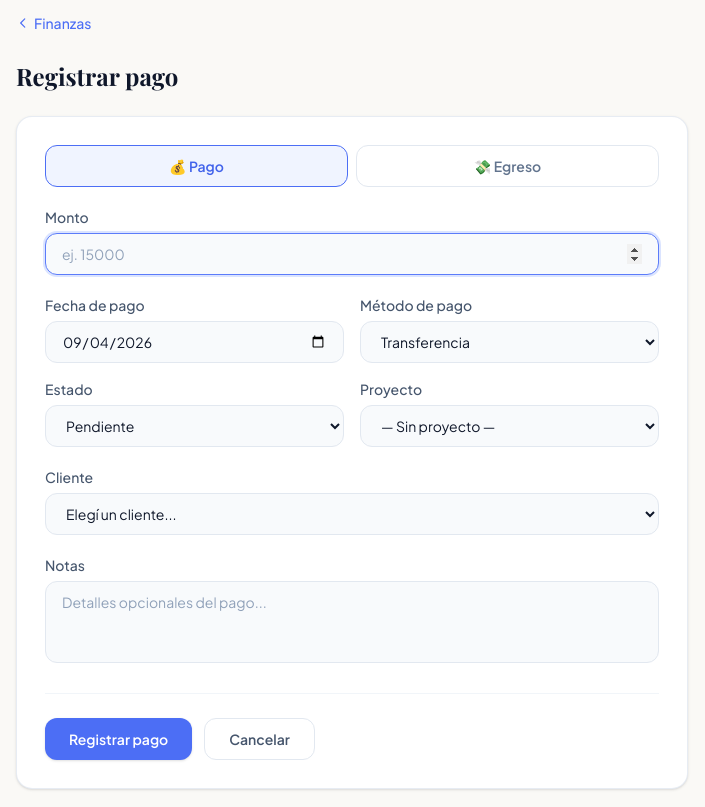
Test: FinanceForm — regla de dominio Egreso => Cobrado › al volver de Egreso a Pago rehabilita el selector con un estado consistente
Click the button "💸 Egreso".
click(508, 166)  # box [356, 145, 659, 187]
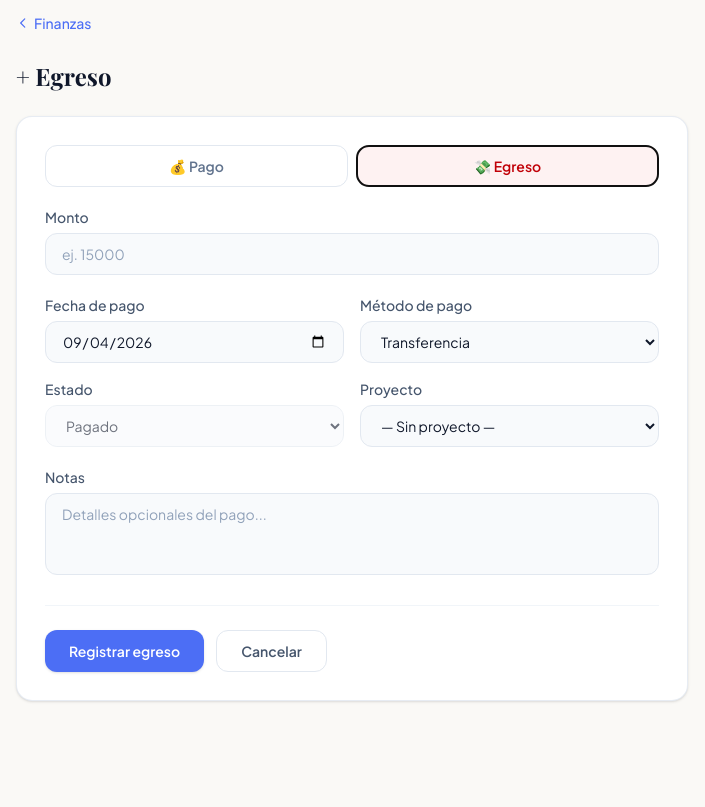
Click the button "💰 Pago".
click(196, 166)  # box [45, 145, 348, 187]
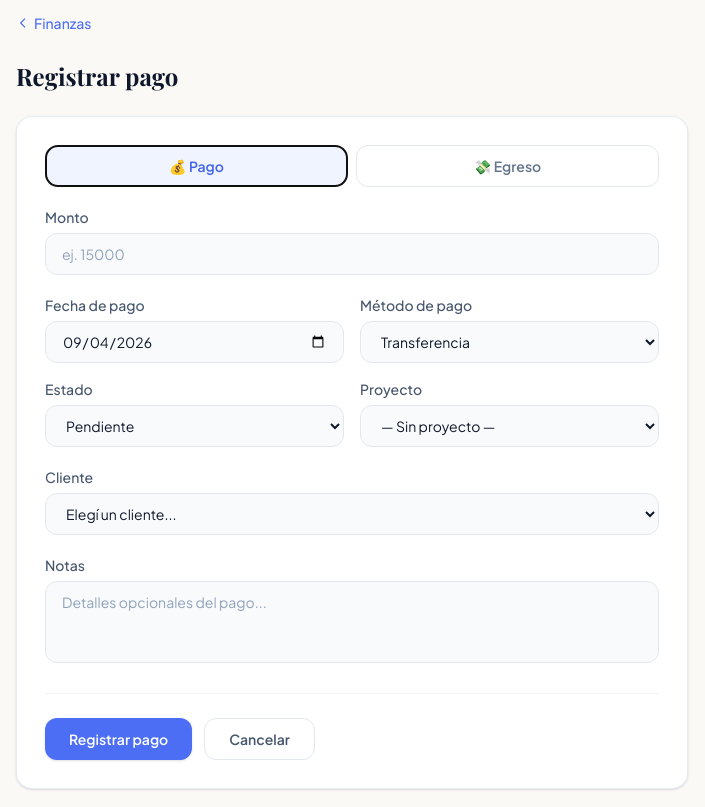
Check: the dropdown labelled "Estado" is enabled, box [45, 405, 344, 447]
Check: the dropdown labelled "Estado" shows "Pendiente", box [45, 405, 344, 447]
